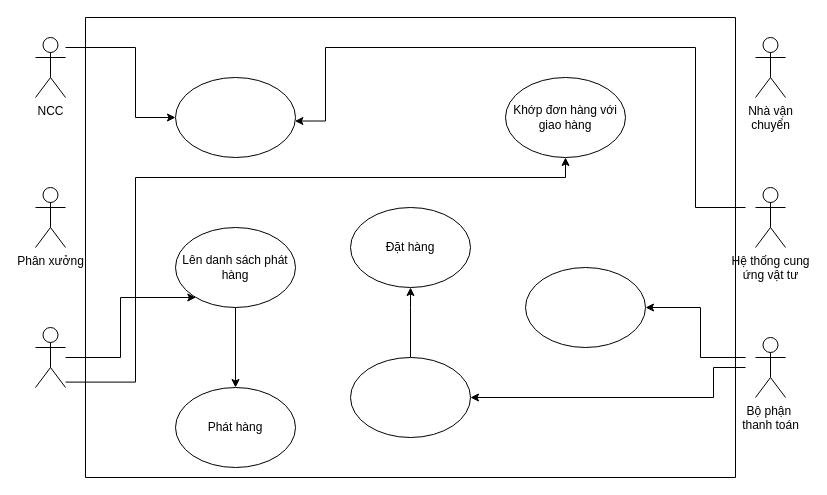
This 827x495 diagram has some shape labels left out. The shapes that lost their labels are listed below. From the top down, each one's centre as x and y in pixels, then its label:
At (235,117): "Khớp đơn hàng với hóa đơn".
At (585,307): "Thông báo thanh toán".
At (50,357): "Người quản lý đơn hàng".
At (410,397): "Thanh toán".
